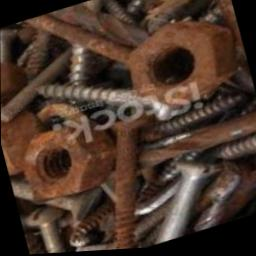Corroded-Nut: (125, 20, 241, 109), (22, 127, 116, 199)
